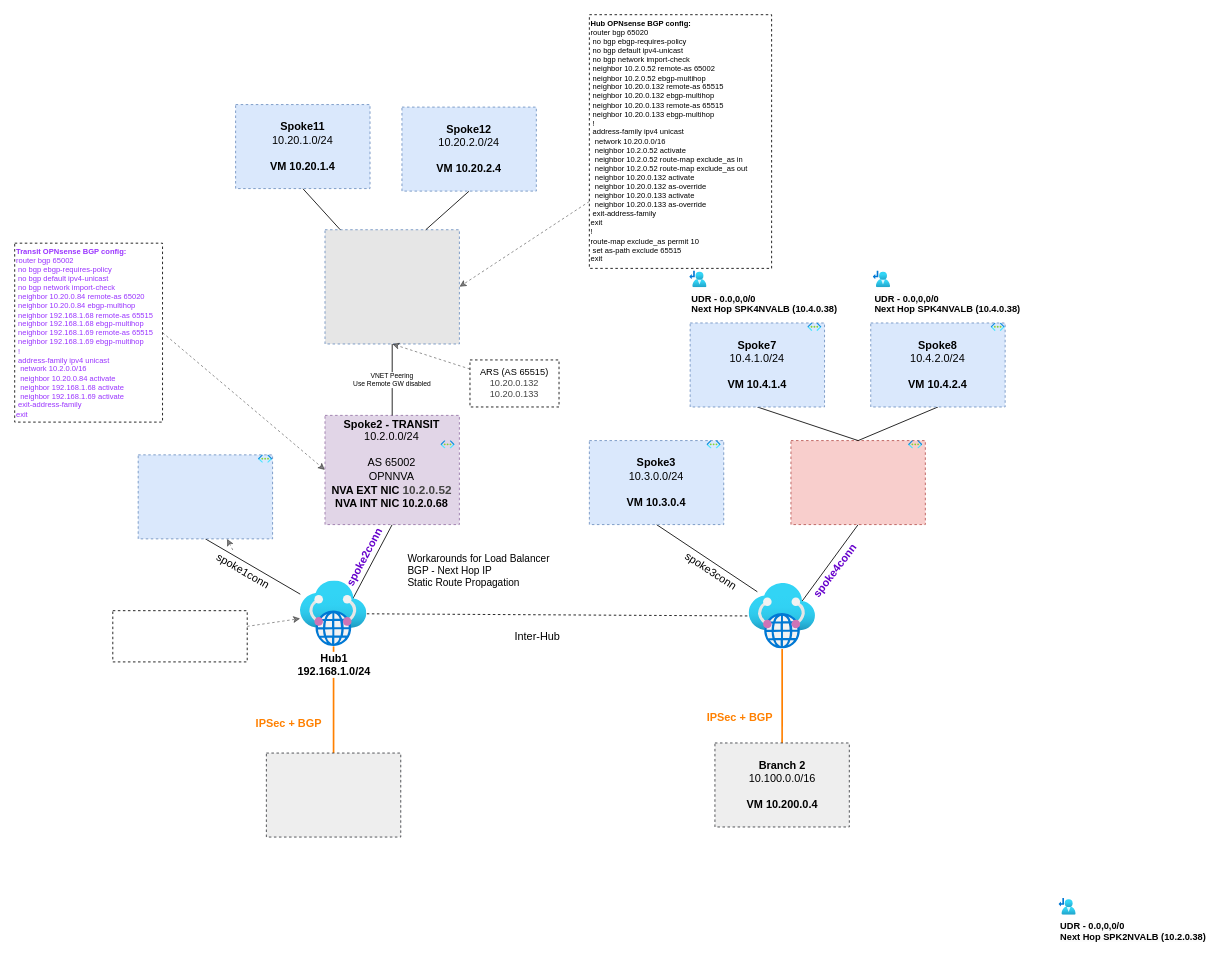
Some shapes in this 1221 by 958 pixel diagram are drawn without their labels. The box of each missing label's shape, as (x1, y1, x2, y2) in pixels:
Branch 1 10.100.0.0/16 VM 10.100.0.4: (266, 752, 401, 837)
Hub 10.20.0.0/24 VM 10.20.0.4 OPN NVA AS 65020 NVA INT NIC 10.2.0.84 ARS: (324, 229, 459, 344)
Hub2 192.168.2.0/24: (749, 583, 815, 648)
Spoke1 10.1.0.0/24 VM 10.1.0.4: (137, 454, 273, 539)
Spoke4 10.4.0.0/24 SPK4NVALB 10.4.0.38: (790, 440, 925, 525)
Virtual Router (AS 65515) 192.168.1.68 192.168.1.69: (112, 610, 247, 662)
